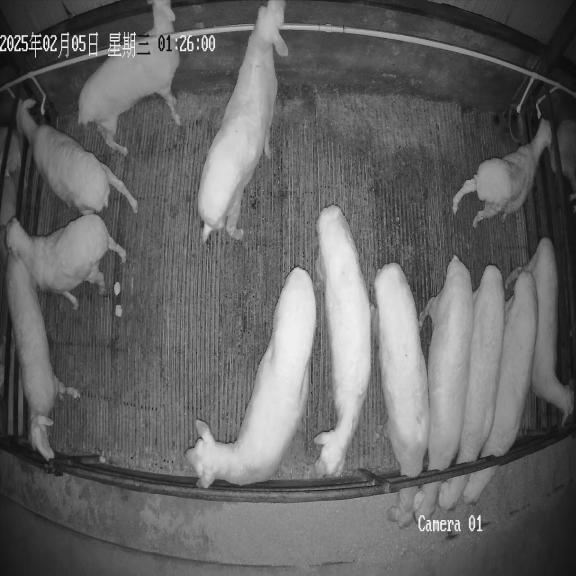drinking: (17, 100, 137, 214), (453, 118, 551, 226)
eating: (463, 261, 537, 504), (438, 265, 505, 510), (413, 255, 474, 520), (371, 263, 429, 528)
stand: (185, 267, 316, 488), (198, 0, 288, 242), (78, 0, 180, 156), (315, 205, 371, 476), (6, 252, 79, 459), (6, 214, 126, 309), (530, 238, 573, 424)
